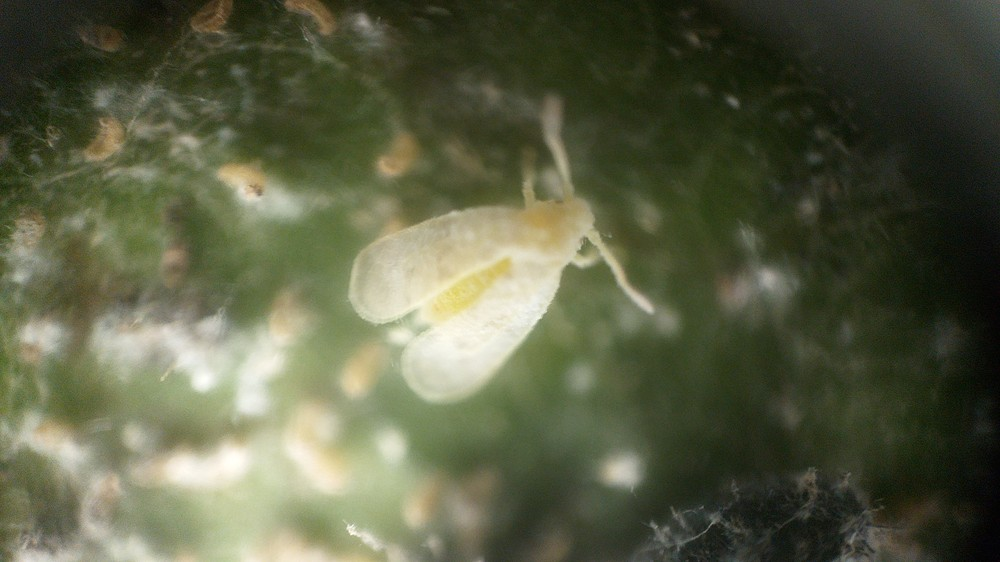Mosca Blanca: (334, 84, 678, 431)
